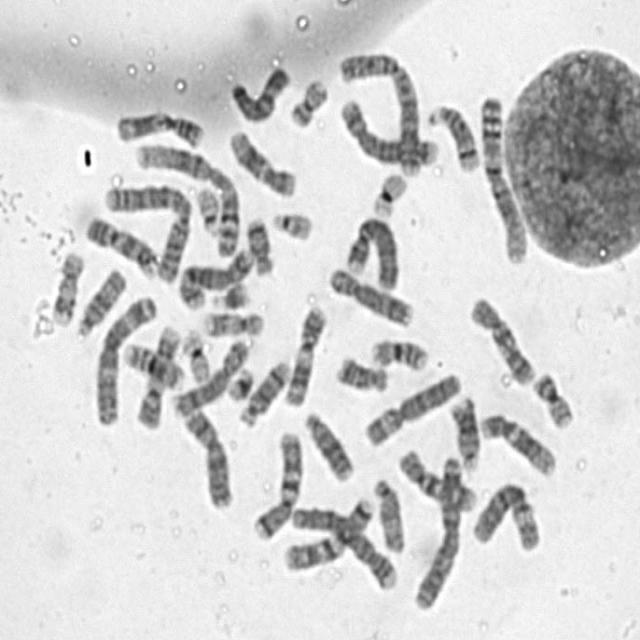A1: (136, 142, 241, 259), (476, 92, 532, 268)
A2: (338, 50, 424, 178), (103, 180, 193, 284)
A3: (92, 295, 158, 425), (411, 455, 464, 614)
B4: (290, 505, 399, 592), (344, 215, 401, 292)
B5: (339, 95, 440, 168), (177, 247, 257, 313)
C10: (468, 294, 536, 387), (394, 445, 480, 513)
C11: (284, 306, 328, 407), (114, 111, 205, 151)
C12: (224, 129, 298, 200), (480, 412, 560, 476)
C6: (362, 372, 464, 449), (472, 479, 544, 558)
C7: (282, 496, 373, 574), (252, 431, 298, 544)
C8: (174, 337, 250, 422), (328, 266, 416, 327)
C9: (134, 326, 185, 432), (83, 215, 160, 281)
D13: (304, 412, 358, 483), (449, 395, 481, 478)
D14: (427, 103, 482, 174), (239, 360, 291, 427)
D15: (73, 266, 129, 341), (372, 478, 407, 554)
E16: (121, 343, 186, 392), (370, 336, 430, 374)
E17: (48, 251, 88, 328), (198, 311, 266, 339)
E18: (333, 353, 389, 393), (246, 216, 276, 278)
F19: (369, 172, 408, 220), (181, 329, 212, 383)
F20: (530, 370, 576, 431), (292, 73, 329, 127)
G21: (210, 280, 253, 311), (226, 366, 254, 404)
G22: (269, 210, 316, 242), (193, 187, 222, 236)
X: (185, 409, 236, 512), (230, 63, 291, 127)
